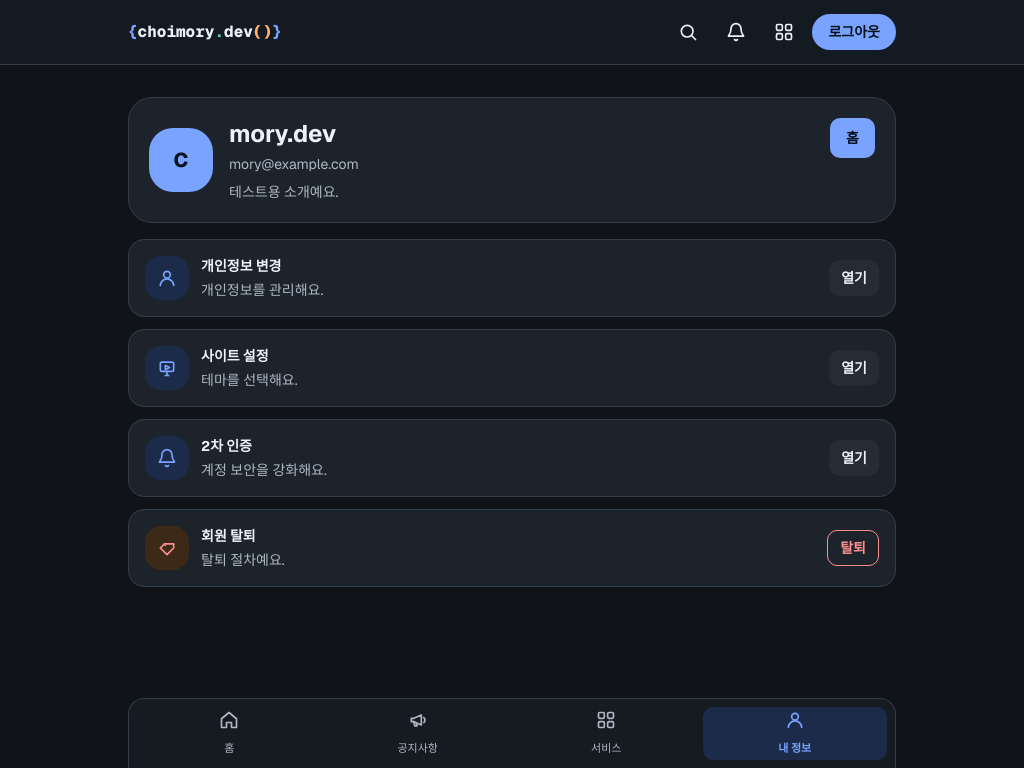
Test: MeView › 사이트 설정 모달에서 테마를 바꿀 수 있다
Click the button "사이트 설정 테마를 선택해요. 열기" at [167, 368], box [128,329,896,407]
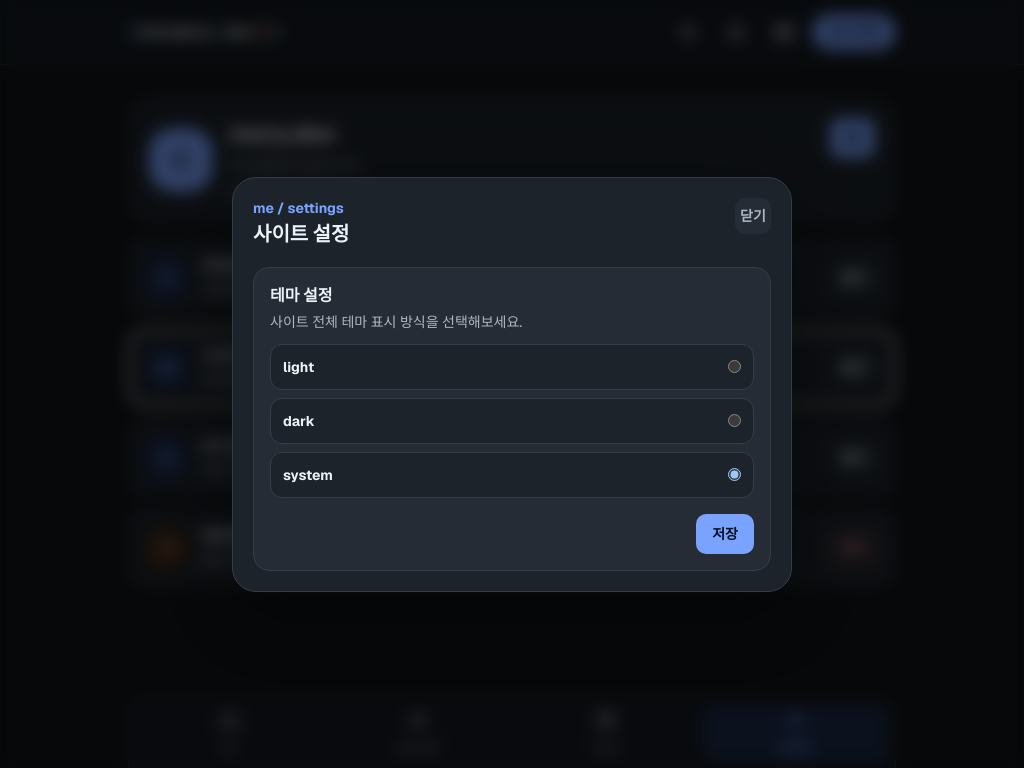
Click the radio button labelled "dark" at [734, 420], box [728,414,741,427]
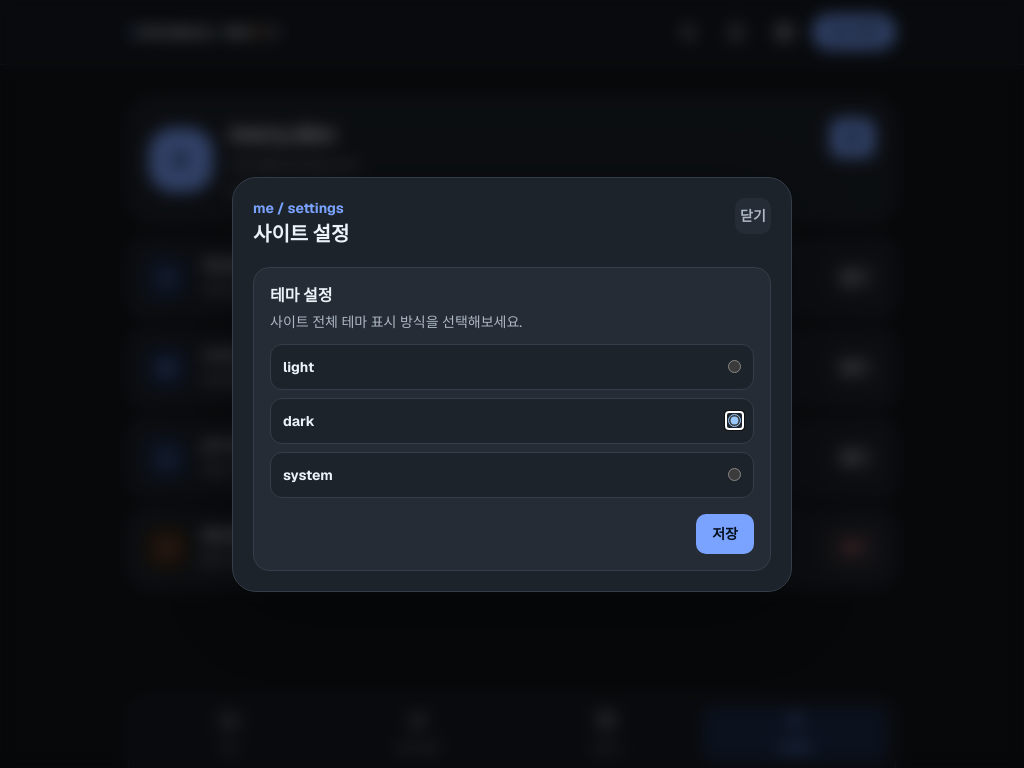
expect the radio button labelled "dark" is checked: met, box [728,414,741,427]
expect the radio button labelled "system" is not checked: met, box [728,468,741,481]
